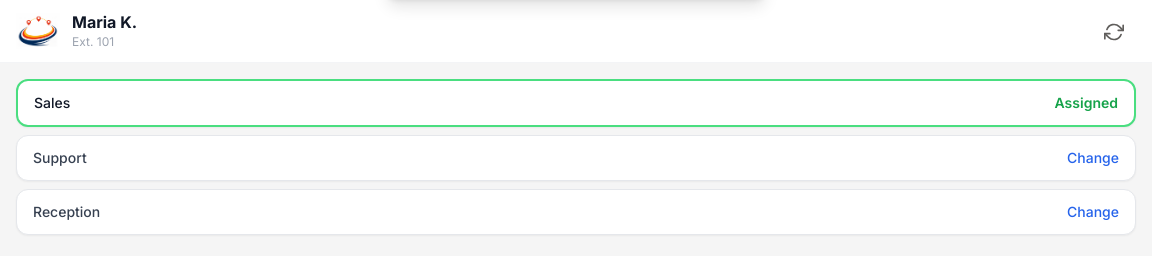
Scenario: DepartmentsPage › tapping a non-current dept card shows confirm/cancel
The width and height of the screenshot is (1152, 256).
# Click Support "Change" row
Click the button "Support Change".
click(60, 158)  # box top-left (16, 135), bottom-right (1136, 181)
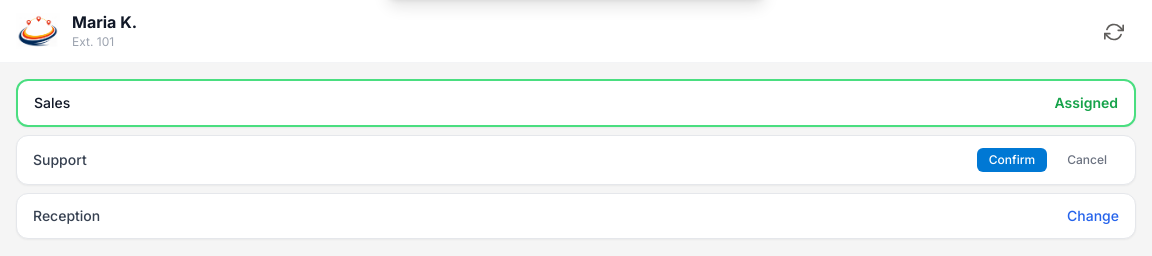
Expected: the button "Confirm" is shown, top-left (977, 148), bottom-right (1047, 172)
Expected: the button "Cancel" is shown, top-left (1055, 148), bottom-right (1119, 172)
